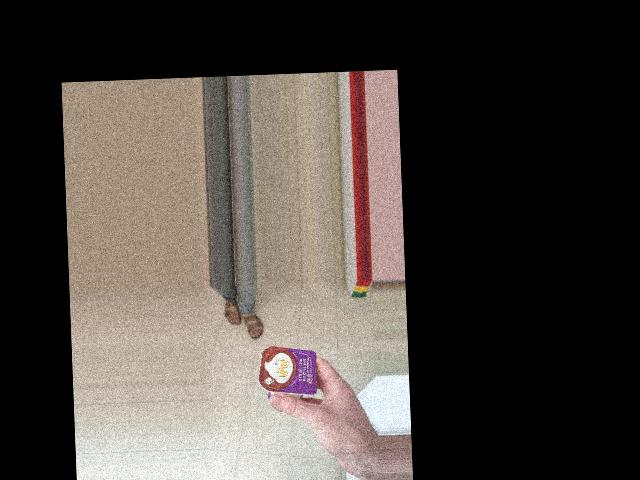milky: (254, 339, 320, 414)
